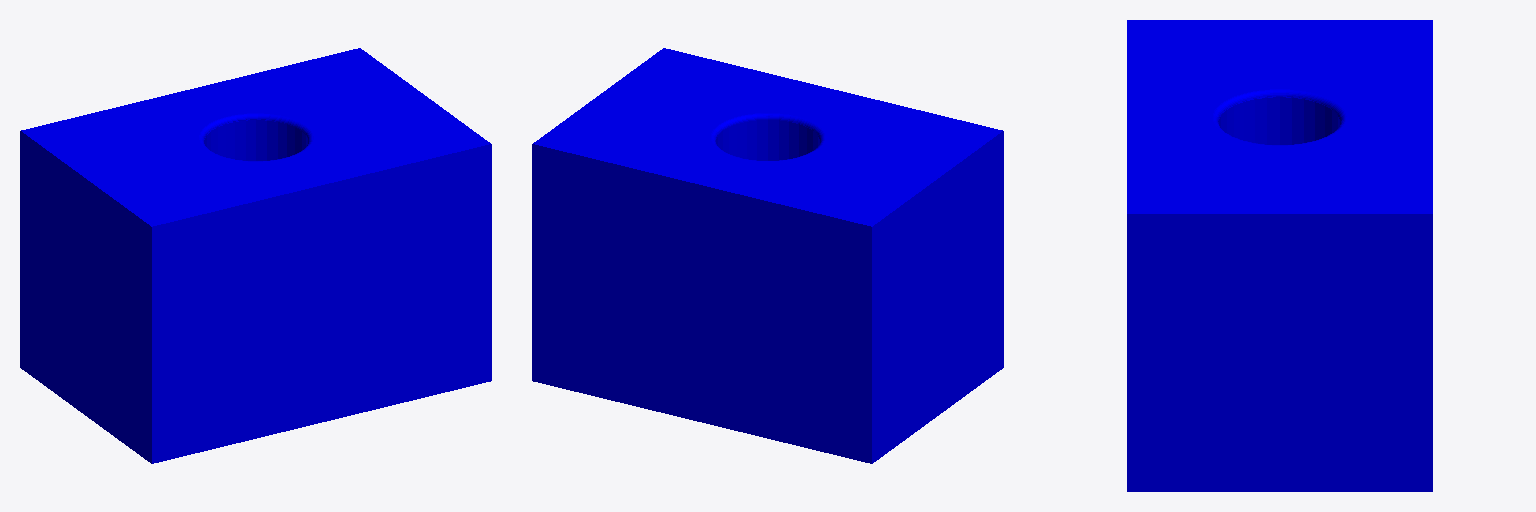
URDF robot description (insertion_block.urdf):
<?xml version="0.0" ?>
<robot name="insertion_block.urdf">

<link name="block">
	<contact>
      <lateral_friction value="0.05"/>
    </contact>
    <inertial>
      <origin rpy="0 0 0" xyz="0 0 0"/>
       <mass value="30"/>
       <inertia ixx="1" ixy="0" ixz="0" iyy="1" iyz="0" izz="1"/>
    </inertial>
    <visual>
      <origin rpy="0 0 0" xyz="0 0 0"/>
      <geometry>
		<mesh filename="insertion_block.obj" scale=".01 .01 .01"/>
      </geometry>
       <material name="blue">
        <color rgba="0 0 1 1"/>
      </material>
    </visual>
    <collision concave="yes">
      <geometry>
      	<mesh filename="insertion_block.obj" scale=".01 .01 .01"/>
      </geometry>
      <origin rpy="0 0 0" xyz="0 0 0"/>
    </collision>
</link>

</robot>

--- Render facts (derived) ---
The picture shows the robot from 3 angles, left to right: view 1: azimuth 30°, elevation 25°; view 2: azimuth 150°, elevation 25°; view 3: azimuth 270°, elevation 25°; orthographic projection.
Model insertion_block.urdf with 1 links and 0 joints (none), rooted at block, posed every joint at zero.
Links seen in each view (by area): view 1: block; view 2: block; view 3: block.
Link boxes in pixels (box(x1,y1,x2,y2)): block: box(20, 48, 491, 463); block: box(532, 48, 1003, 463); block: box(1127, 20, 1432, 491).
Bounding box of the posed robot: 0.1498 × 0.1003 × 0.1 m (x, y, z).
1 mesh visuals loaded from 1 distinct referenced files (1 OBJ).